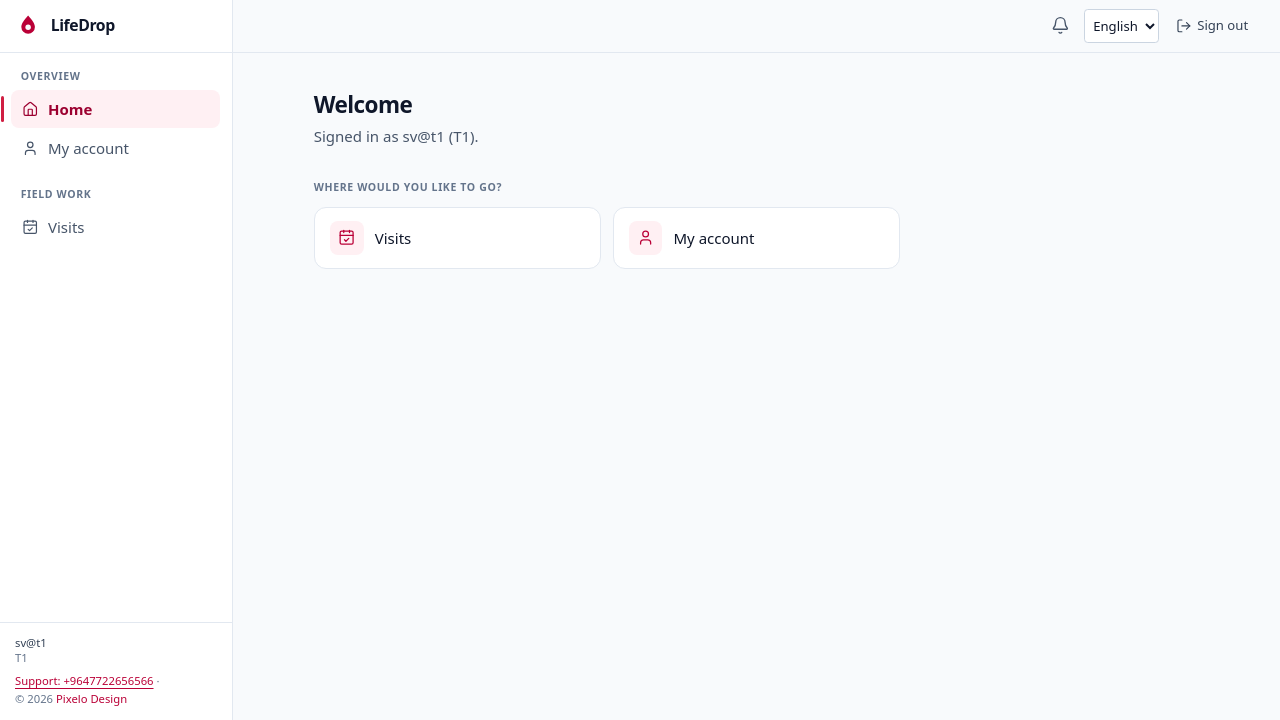
Test: panel management screens › plan templates: saves a week for a field user and applies it to the coming weeks
The image size is (1280, 720).
Click the button "Visits" at (116, 227), box top-left (11, 209), bottom-right (220, 246)
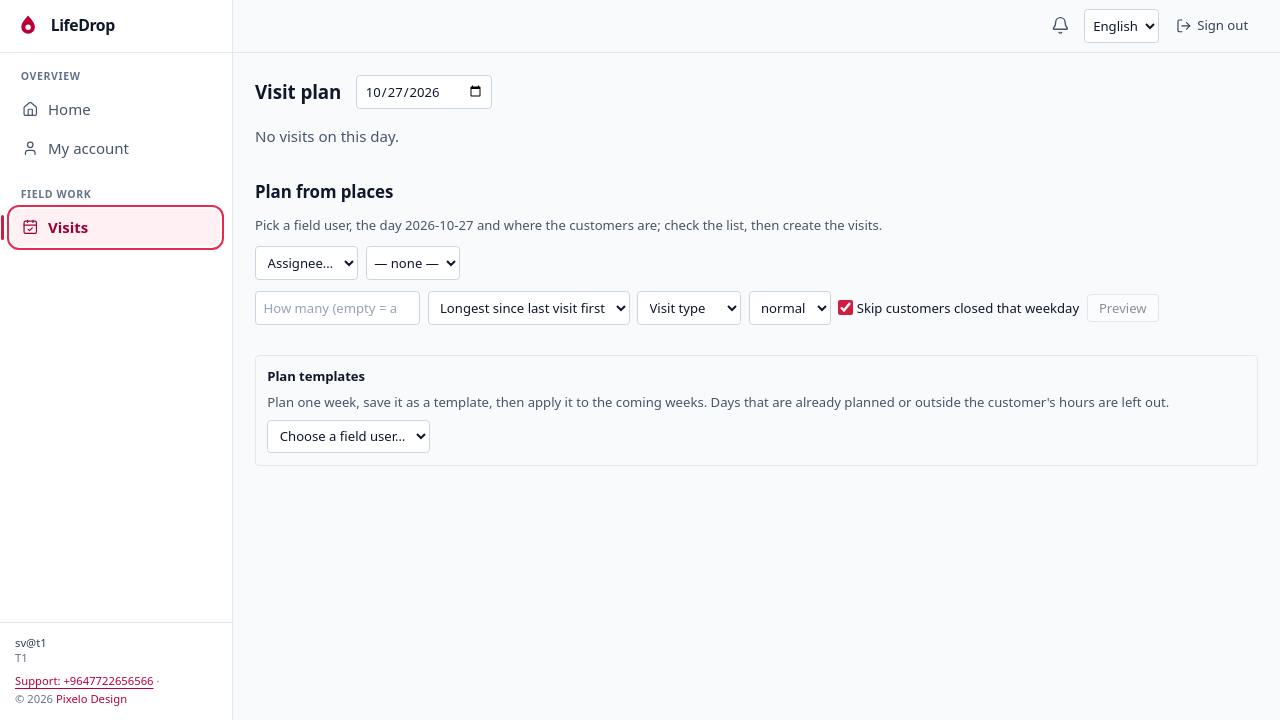
Select "rep@t1" in the dropdown named "Choose a field user…" at (349, 436), box top-left (267, 420), bottom-right (430, 453)
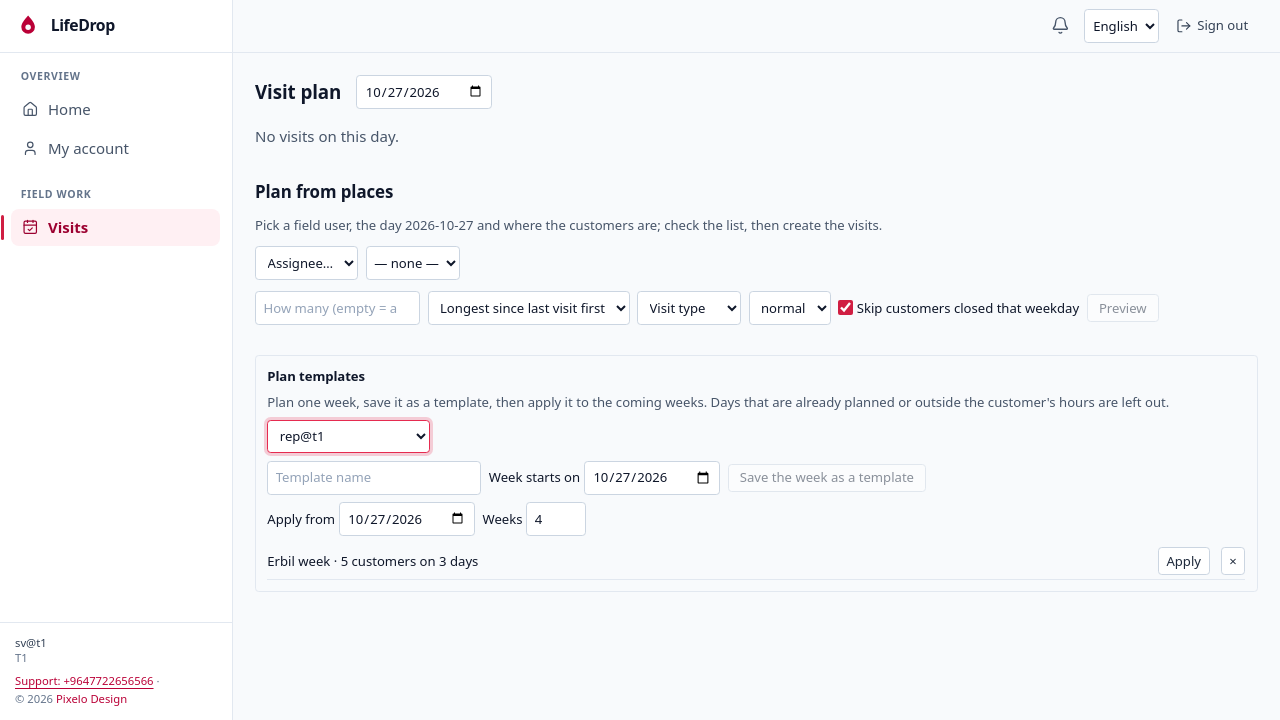
expect the text "Erbil week · 5 customers on 3 days" is shown: met, box top-left (267, 552), bottom-right (478, 570)
Type " Next " into the field labelled "Template name" at (374, 478), box top-left (267, 461), bottom-right (481, 495)
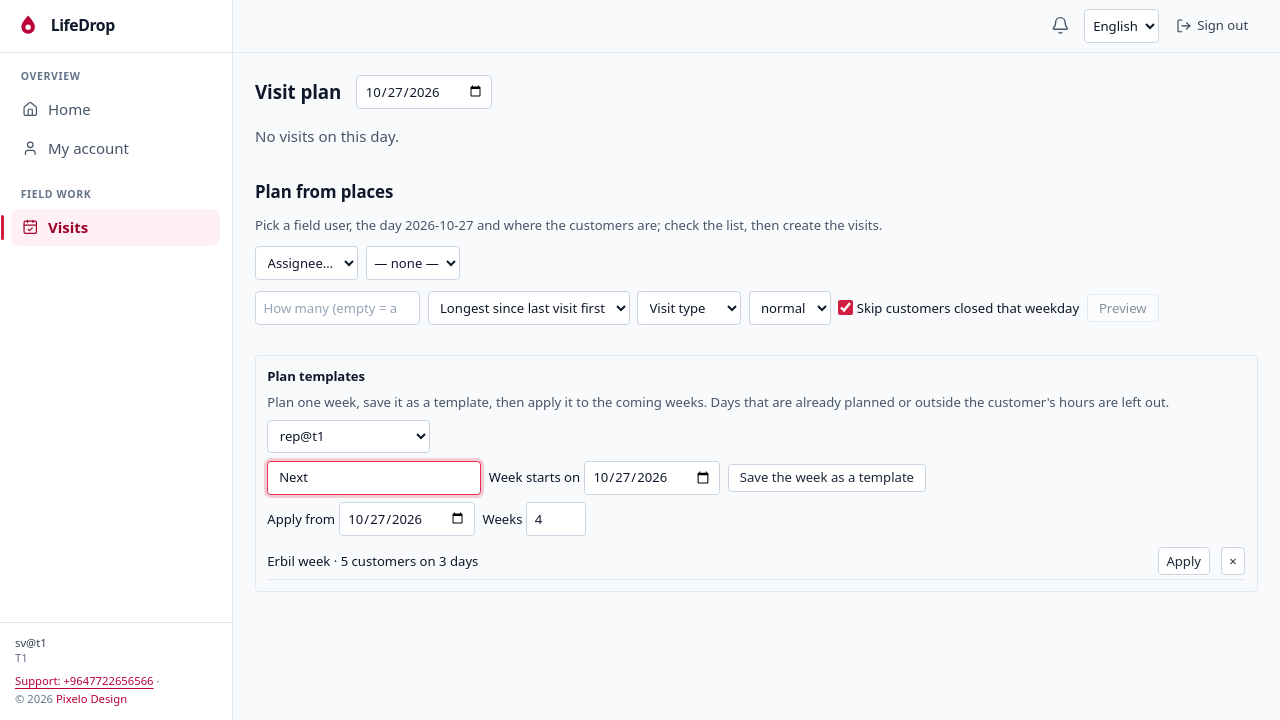
Type "2026-10-19" into the date field labelled "Week starts on" at (652, 478), box top-left (584, 461), bottom-right (720, 495)
Click the button "Save the week as a template" at (827, 478), box top-left (728, 464), bottom-right (926, 492)
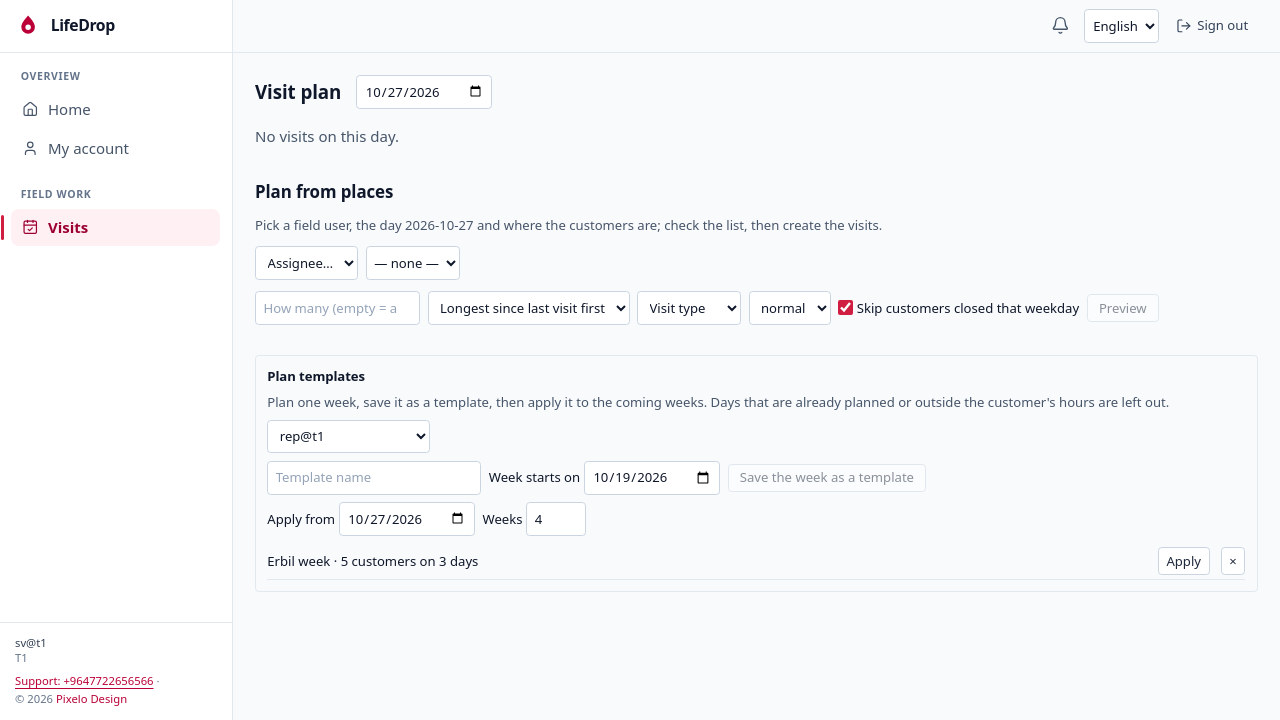
Type "2099-01-04" into the date field labelled "Apply from" at (407, 519), box top-left (339, 502), bottom-right (475, 536)
Replace the text in the number field labelled "Weeks" with "3" at (556, 519), box top-left (526, 502), bottom-right (586, 536)
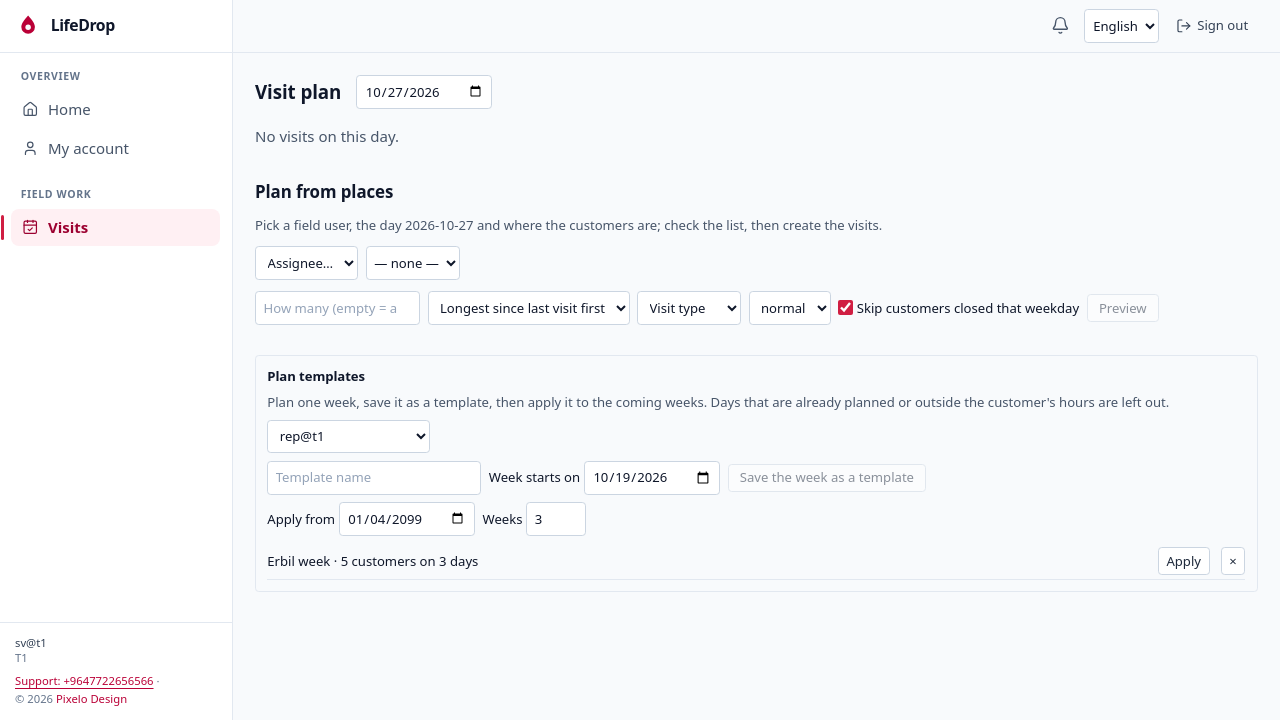
Click the button with aria-label "Apply Erbil week" at (1184, 561), box top-left (1158, 547), bottom-right (1210, 575)
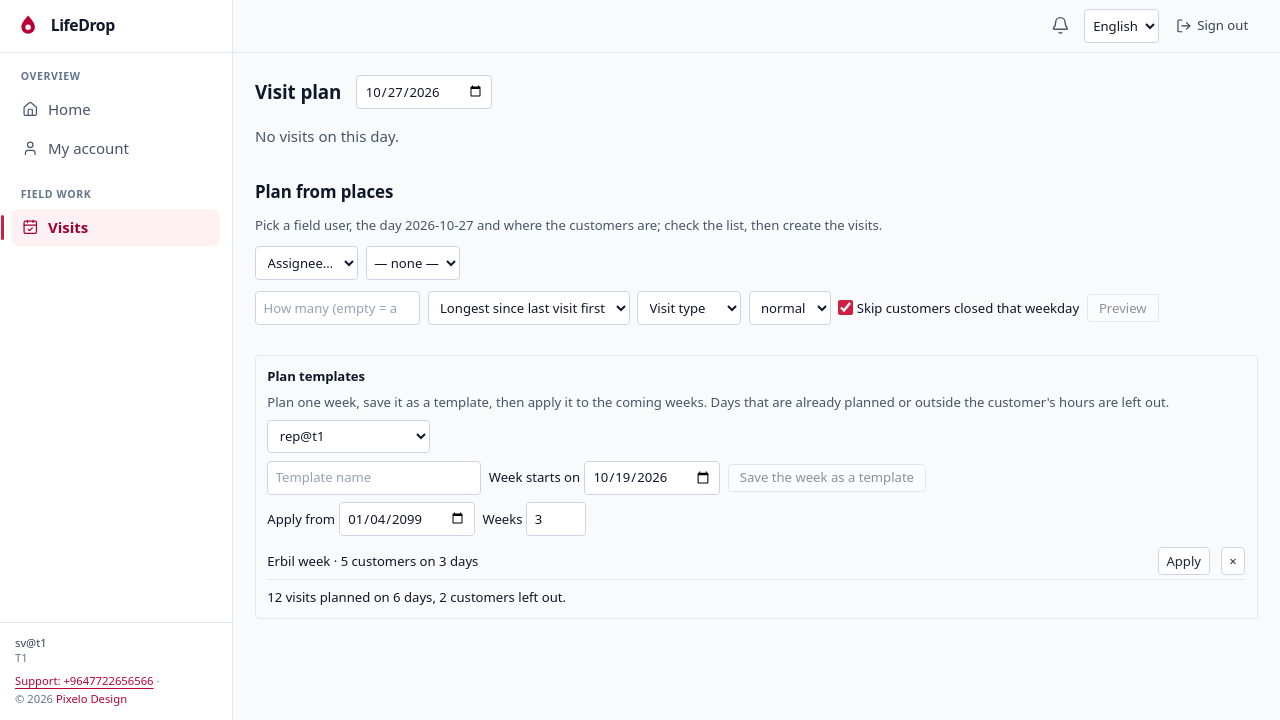
expect the text "12 visits planned on 6 days, 2 customers left out." is shown: met, box top-left (267, 588), bottom-right (566, 606)
